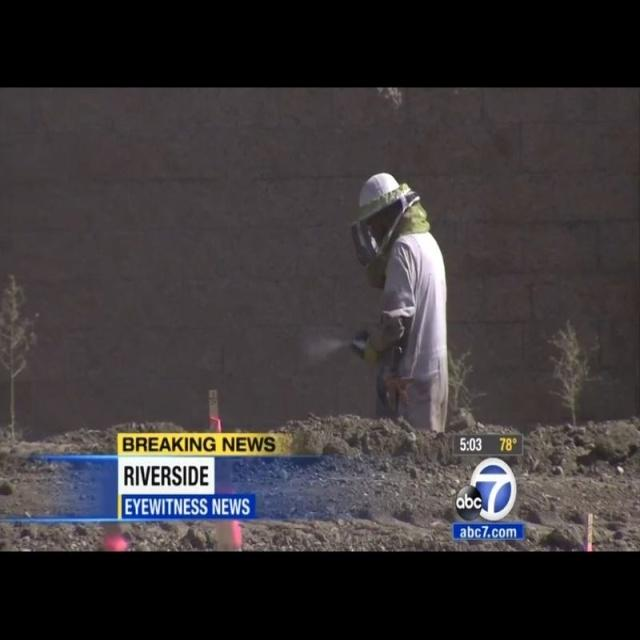helmet: (359, 229, 405, 323)
